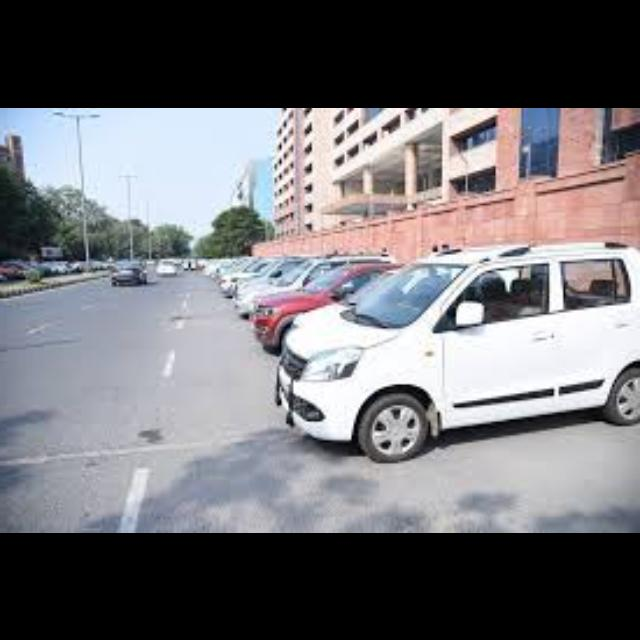vehicles: (276, 233, 640, 459), (0, 260, 30, 280)
